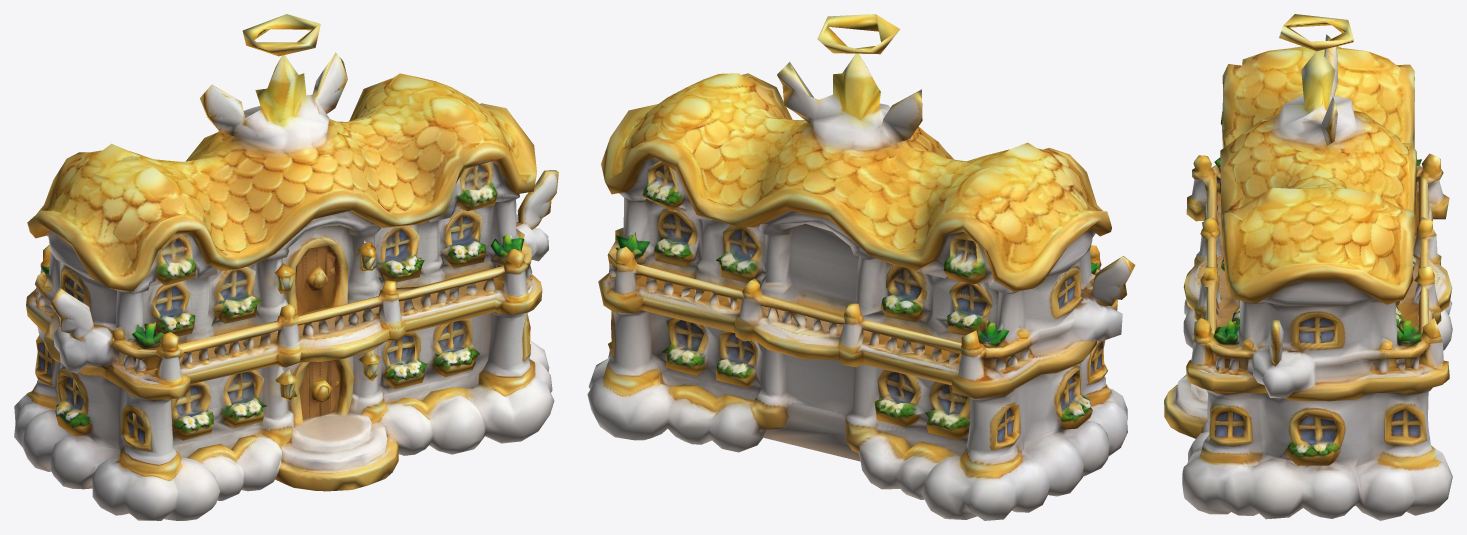
File: Town_Halo_HouseC_fixed.glb
3 views of the same model, side by side, from view 1: azimuth 30°, elevation 25°; view 2: azimuth 150°, elevation 25°; view 3: azimuth 270°, elevation 25° (orthographic). The views are drawn at different scales.
Visible parts, largest first — view 1: tripo_node_328d3b19-4f38-42e1-b331-c7b2e009db7f; view 2: tripo_node_328d3b19-4f38-42e1-b331-c7b2e009db7f; view 3: tripo_node_328d3b19-4f38-42e1-b331-c7b2e009db7f.
Boxes of the visible parts, bbox=[...] form: tripo_node_328d3b19-4f38-42e1-b331-c7b2e009db7f: bbox=[14, 14, 558, 520]; tripo_node_328d3b19-4f38-42e1-b331-c7b2e009db7f: bbox=[587, 14, 1135, 520]; tripo_node_328d3b19-4f38-42e1-b331-c7b2e009db7f: bbox=[1164, 14, 1452, 520].
Size of the model in its own units: 0.9815 by 0.7658 by 0.4985.
1 material, 1 textured.
